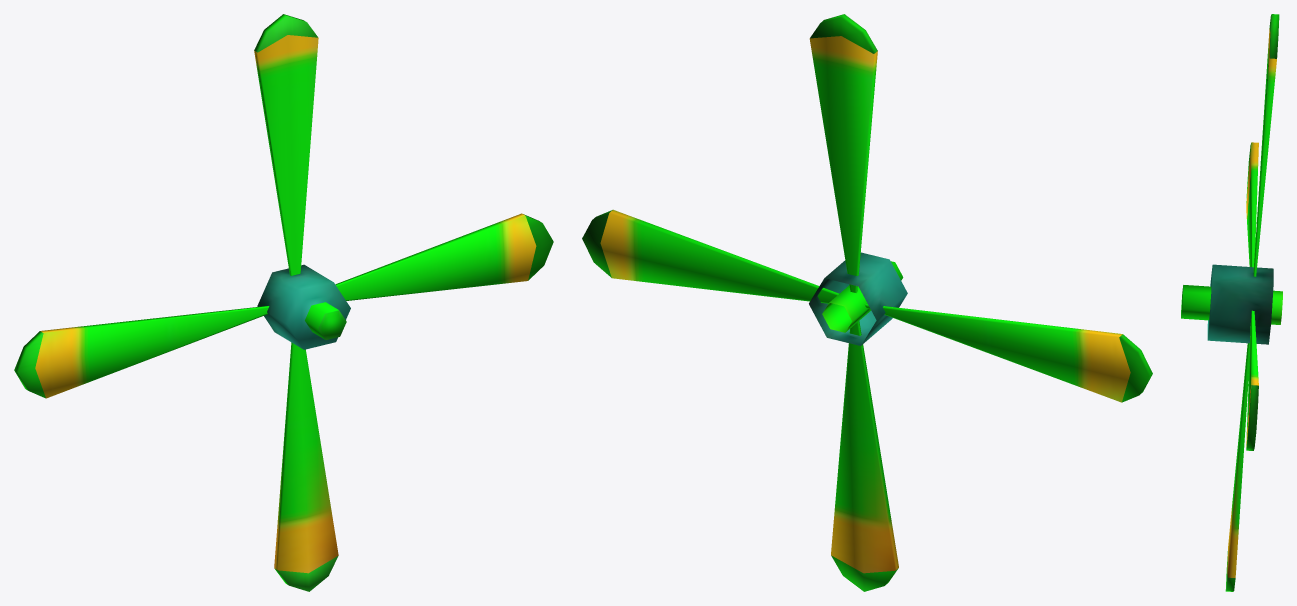
File: plane7_blades3.obj
The picture shows the model from 3 angles, left to right: view 1: azimuth 30°, elevation 25°; view 2: azimuth 150°, elevation 25°; view 3: azimuth 270°, elevation 25°; orthographic projection. The views are drawn at different scales.
Parts seen in each view (by area): view 1: Catoon_B29_fan2; view 2: Catoon_B29_fan2; view 3: Catoon_B29_fan2.
Part boxes in pixels (box(x1,y1,x2,y2)): Catoon_B29_fan2: box(14, 14, 553, 591); Catoon_B29_fan2: box(582, 14, 1152, 591); Catoon_B29_fan2: box(1181, 14, 1282, 591).
Size of the model in its own units: 13.55 by 13.53 by 2.16.
Materials: 1 (1 with a texture image).
